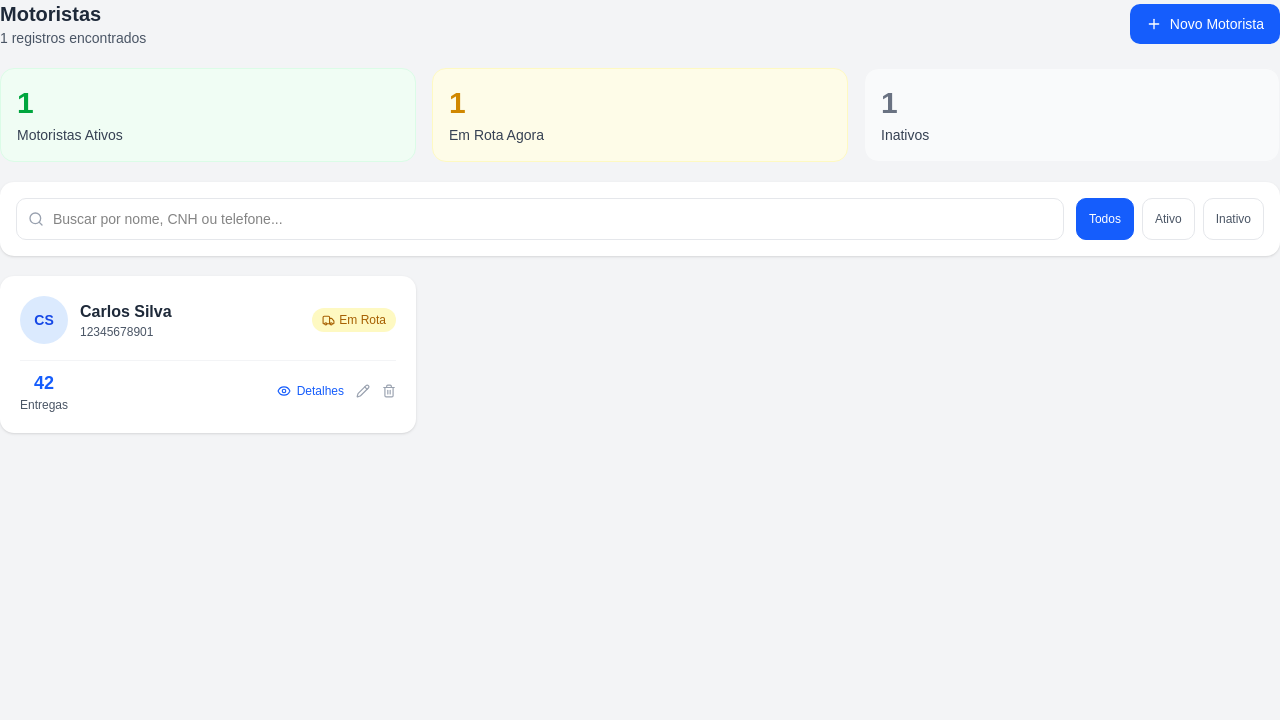
Motoristas › edita um motorista existente com sucesso
Check: the text "Carlos Silva" is shown, box [80,300,172,324]
Click the button named "Editar Carlos Silva": coordinates (363, 391) [356,384,370,398]
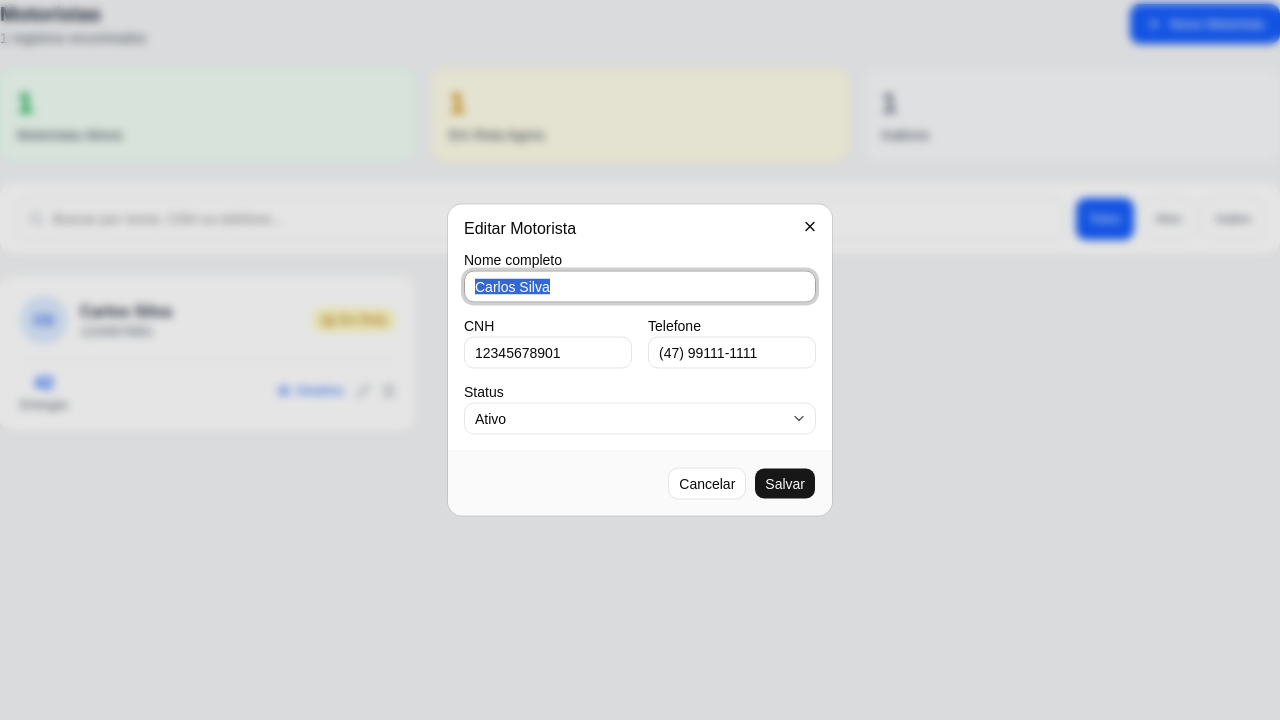
Check: the dialog "Editar Motorista" is shown, box [448,204,832,516]
Replace the text in the field showing "(47) 99111-1111" with "(47) 90000-0000": coordinates (732, 352) [648,336,816,368]
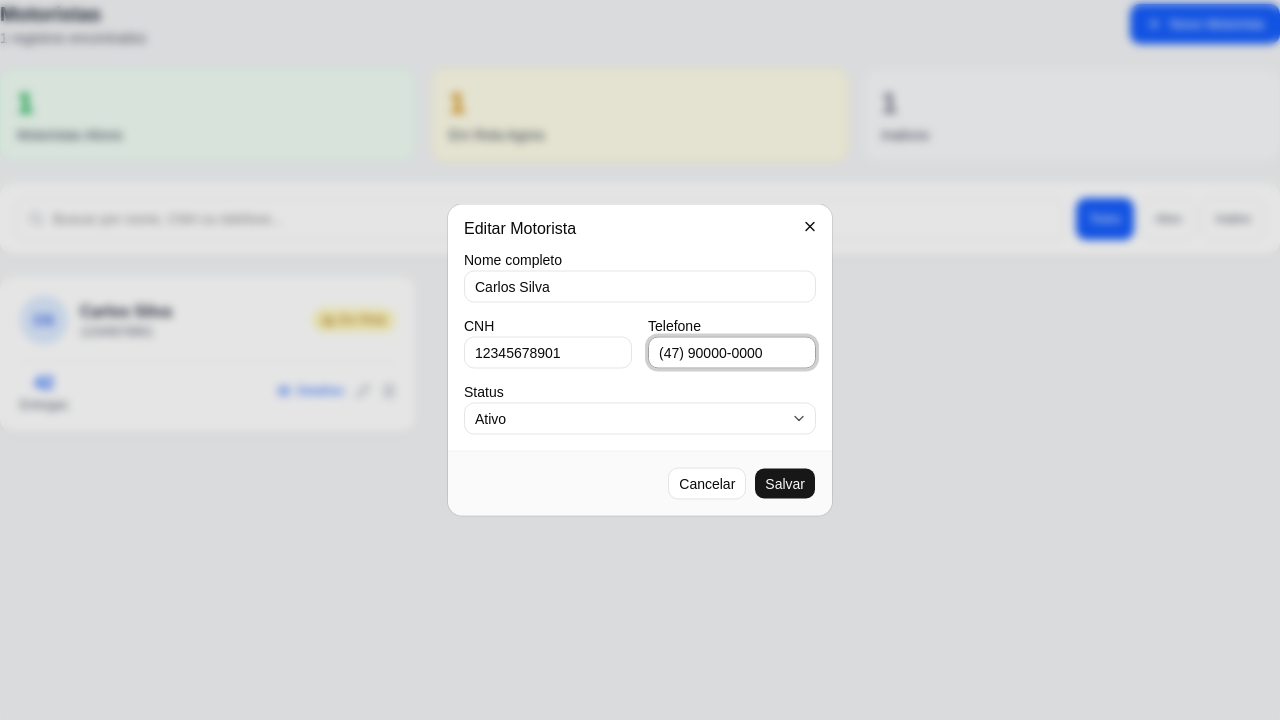
Click the button "Salvar": coordinates (785, 484) [754,468,816,500]
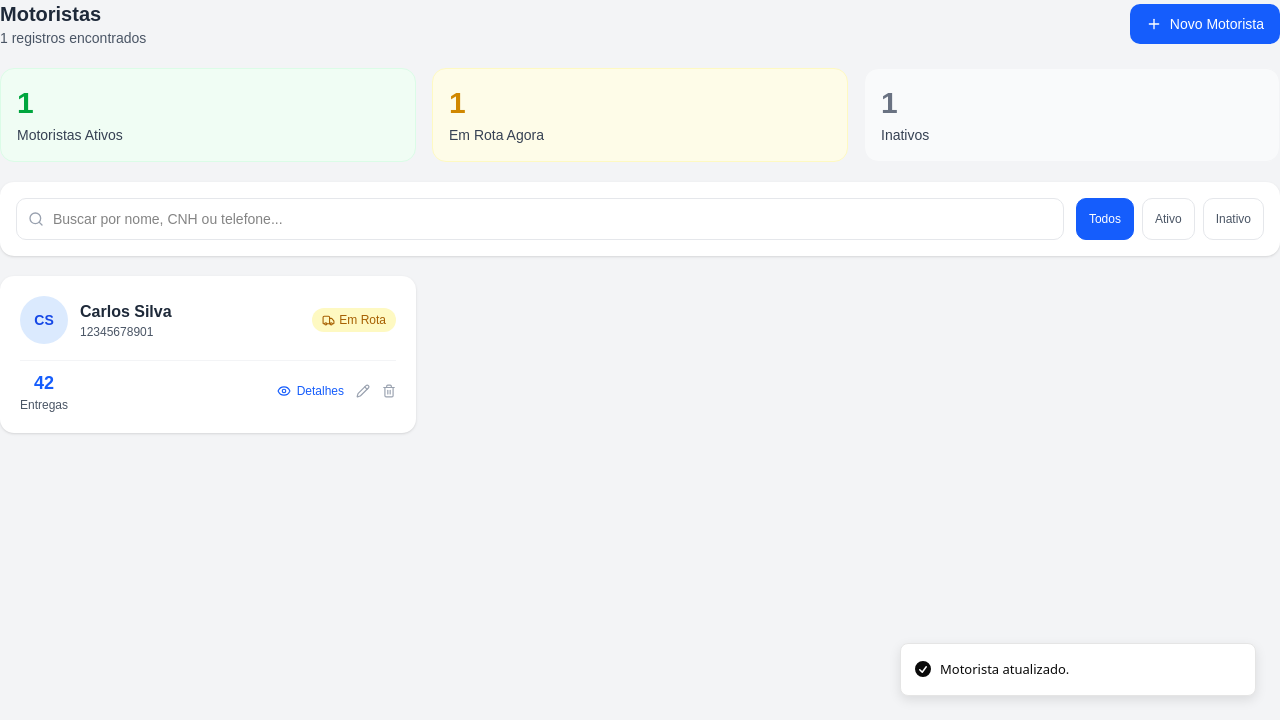
Check: the text "Motorista atualizado." is shown, box [940,660,1069,679]
